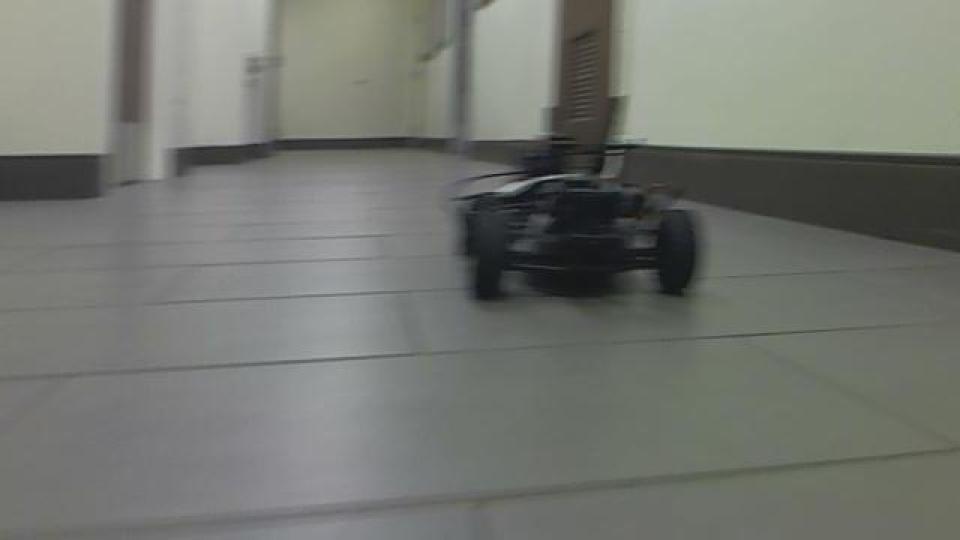car: (439, 157, 699, 304)
